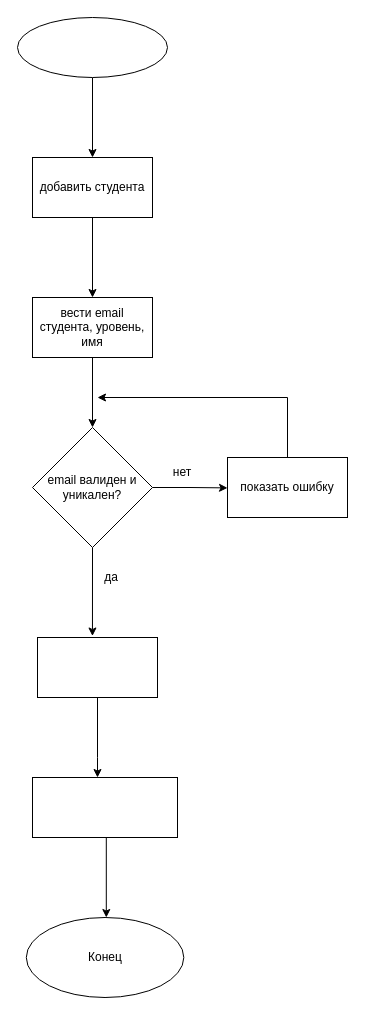
This 365x1015 diagram has some shape labels left out. Each missing label, with the centre of its shape:
"Система сгенерировала пароль" belongs at (x=97, y=667).
"Сохранить User в localStorage" belongs at (x=105, y=807).
"старт" belongs at (x=92, y=47).
